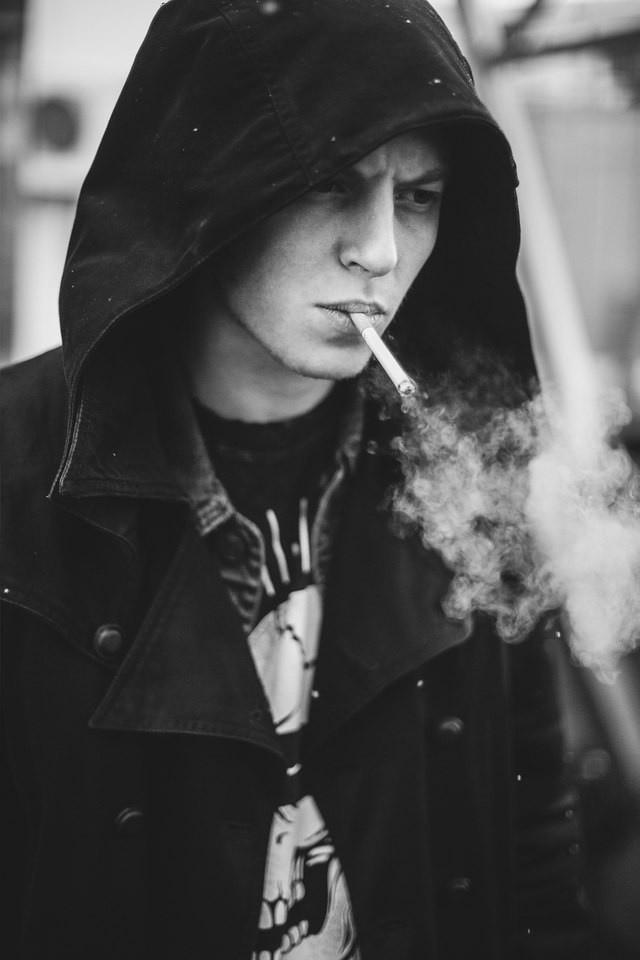cigarette: (349, 312, 415, 399)
